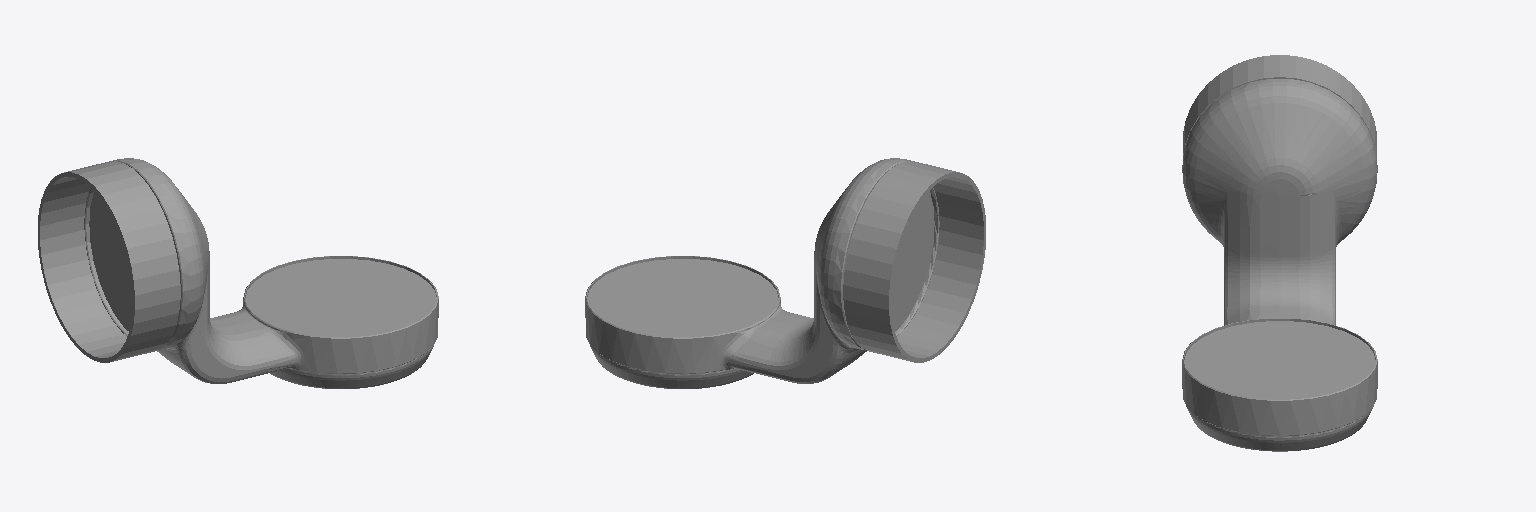
The model's file is forearm_roll_link.obj.
3 renders of one model, left to right at view 1: azimuth 30°, elevation 25°; view 2: azimuth 150°, elevation 25°; view 3: azimuth 270°, elevation 25°, orthographic.
Parts seen in each view (by area): view 1: forearm_roll_link_forearm_roll_link; view 2: forearm_roll_link_forearm_roll_link; view 3: forearm_roll_link_forearm_roll_link.
Boxes of the visible parts, x1=… form: forearm_roll_link_forearm_roll_link: x1=38, y1=158, x2=438, y2=388; forearm_roll_link_forearm_roll_link: x1=585, y1=158, x2=985, y2=388; forearm_roll_link_forearm_roll_link: x1=1182, y1=55, x2=1377, y2=451.
Size of the model in its own units: 0.2085 by 0.139 by 0.104.